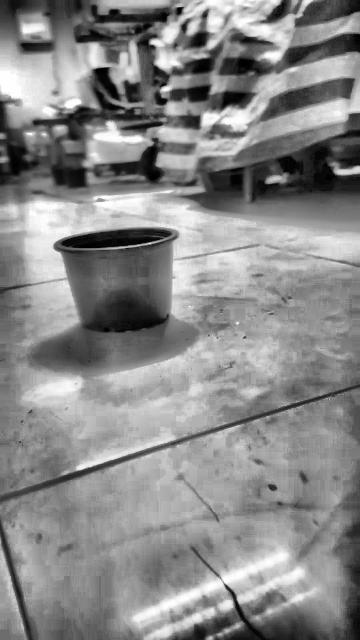pot: (54, 227, 178, 332)
